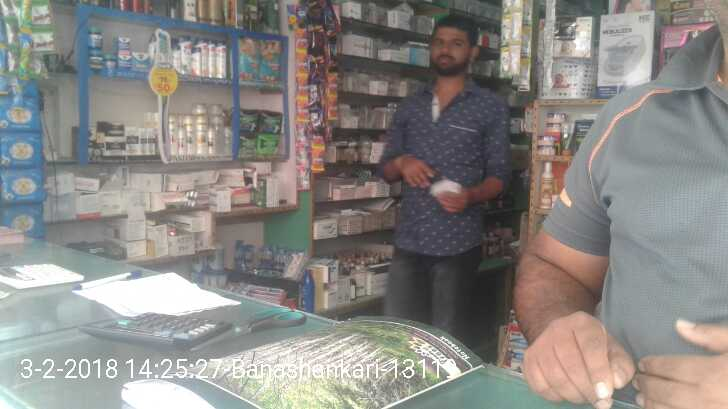beauty: (193, 102, 208, 157), (178, 39, 193, 75), (106, 135, 125, 160), (125, 129, 140, 160), (216, 41, 228, 77), (185, 112, 195, 154), (106, 121, 126, 139), (207, 120, 216, 157), (191, 47, 202, 76), (140, 126, 148, 159)
pharmacy: (258, 37, 282, 82), (237, 35, 257, 81), (258, 111, 282, 135), (256, 135, 283, 153), (129, 51, 151, 73), (237, 107, 257, 131), (239, 132, 256, 153), (117, 35, 131, 53), (116, 51, 128, 71)
